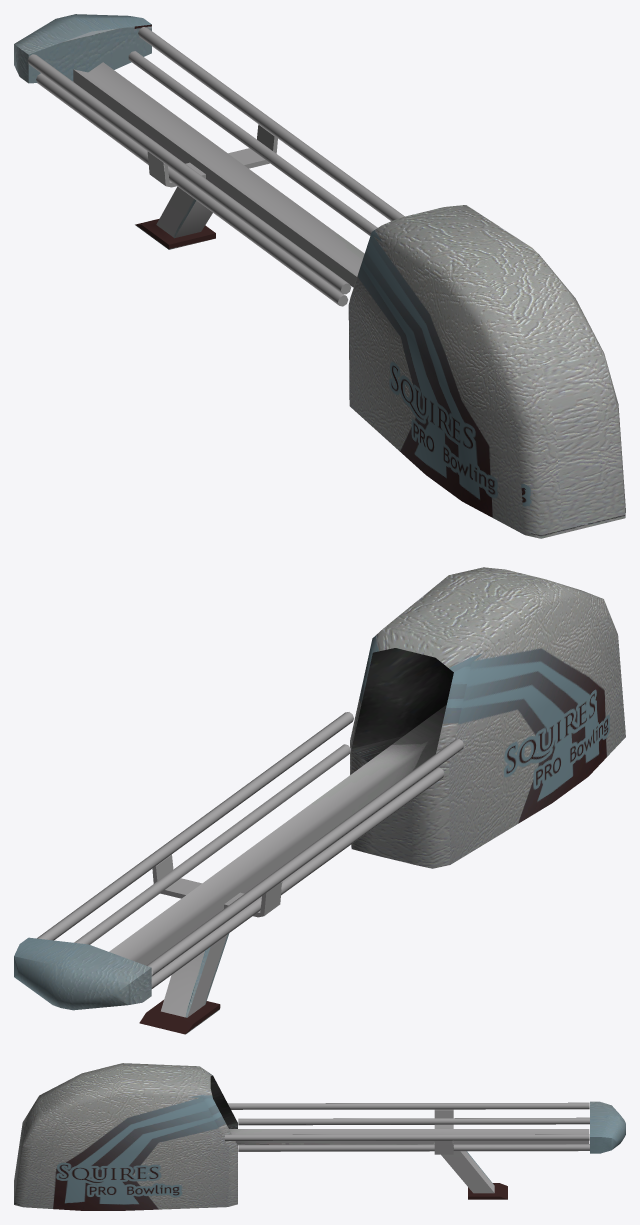
File: bowling-ball-return.fbx
3 views of the same model, one above another, from view 1: azimuth 30°, elevation 25°; view 2: azimuth 150°, elevation 25°; view 3: azimuth 270°, elevation 25° (orthographic). The views are drawn at different scales.
Visible parts, largest first — view 1: BallReturn; view 2: BallReturn; view 3: BallReturn.
Part boxes in pixels (x1=…): BallReturn: x1=14, y1=14, x2=625, y2=538; BallReturn: x1=14, y1=567, x2=625, y2=1034; BallReturn: x1=14, y1=1063, x2=625, y2=1210.
Bounding box in the file's own units: 42.6 × 66.33 × 307.
3 materials, 3 textured.
